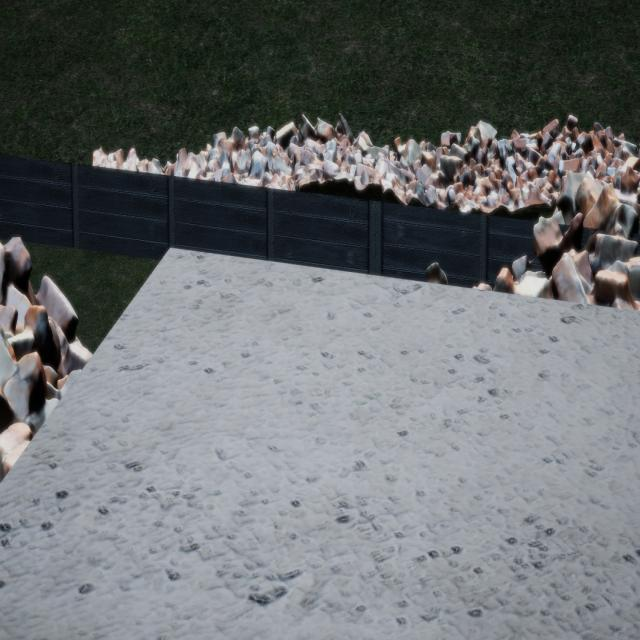Human: (420, 253, 452, 290)
